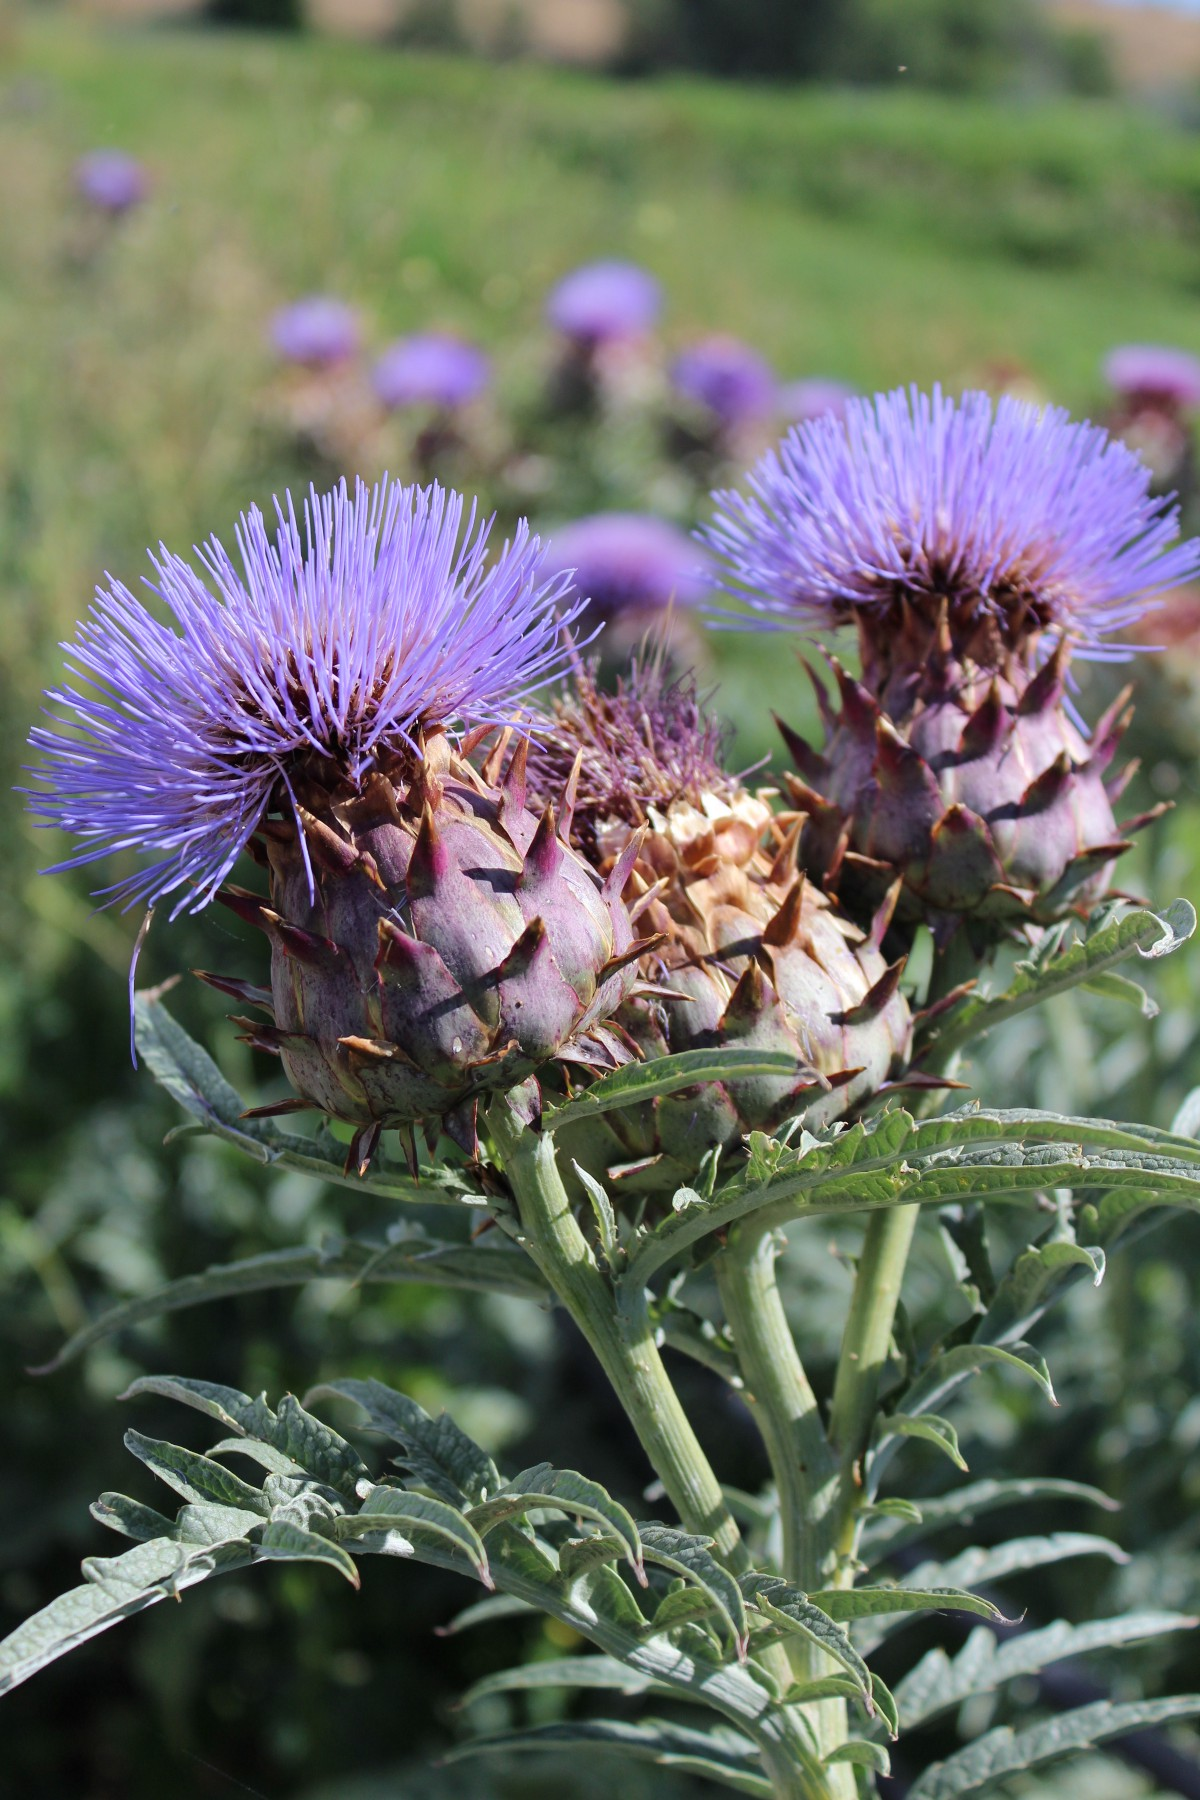thistle: (33, 492, 650, 1130), (710, 376, 1191, 958)
